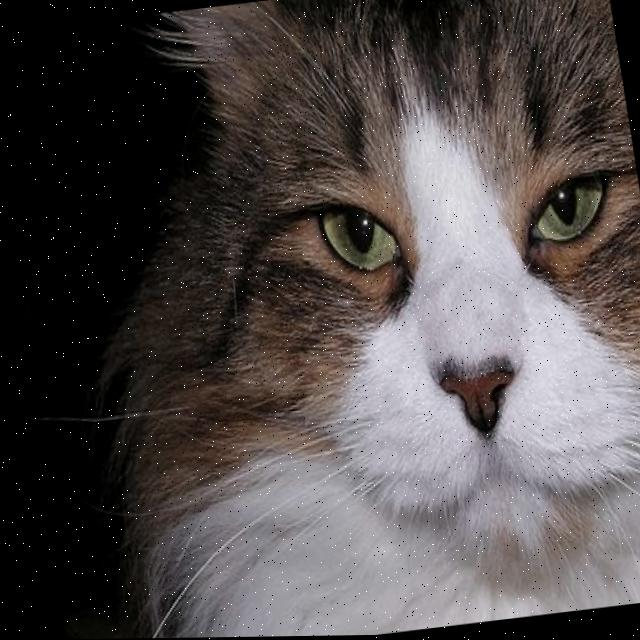Maine Coon: (18, 0, 640, 640)
